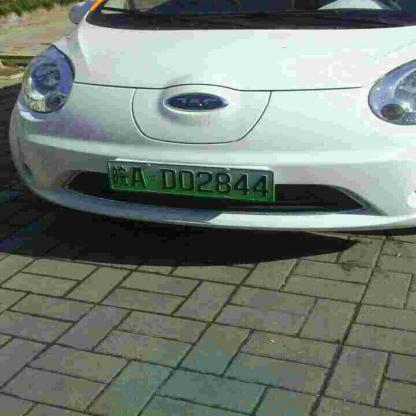lp: (107, 160, 274, 201)
